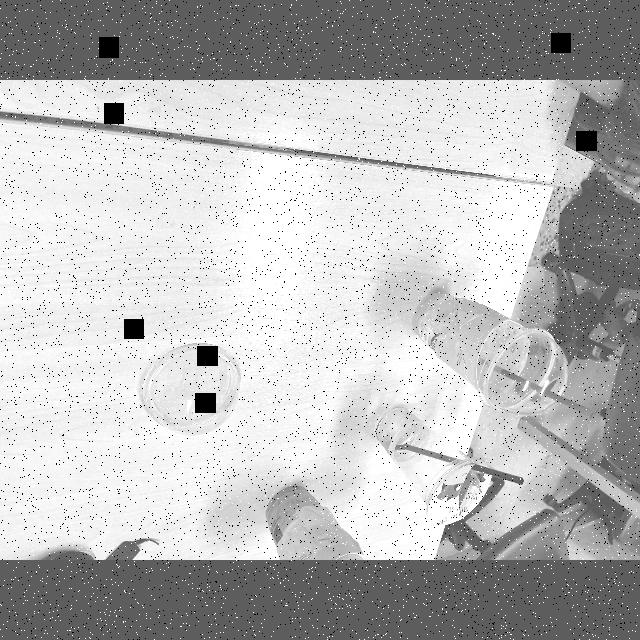plastic_cup: (415, 289, 549, 426), (370, 404, 482, 530), (252, 482, 348, 560)
plastic_cup_lid: (139, 332, 251, 443), (480, 322, 566, 426)
straw: (474, 354, 594, 430), (392, 438, 520, 497)
